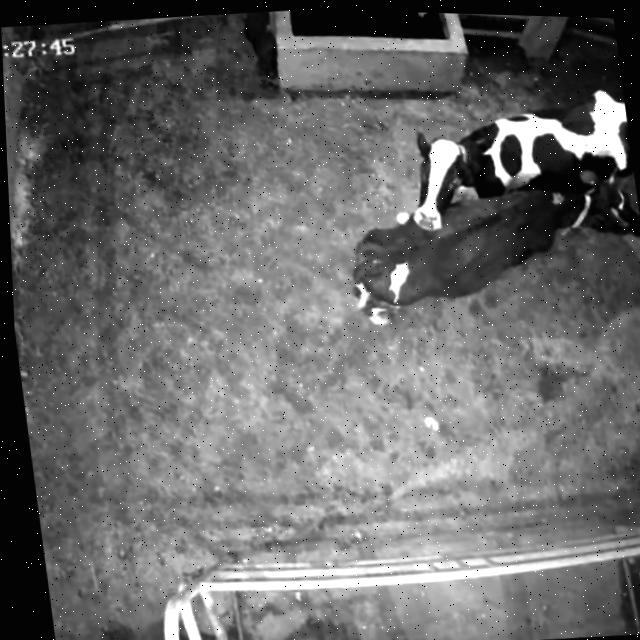propping: (374, 111, 515, 286)
